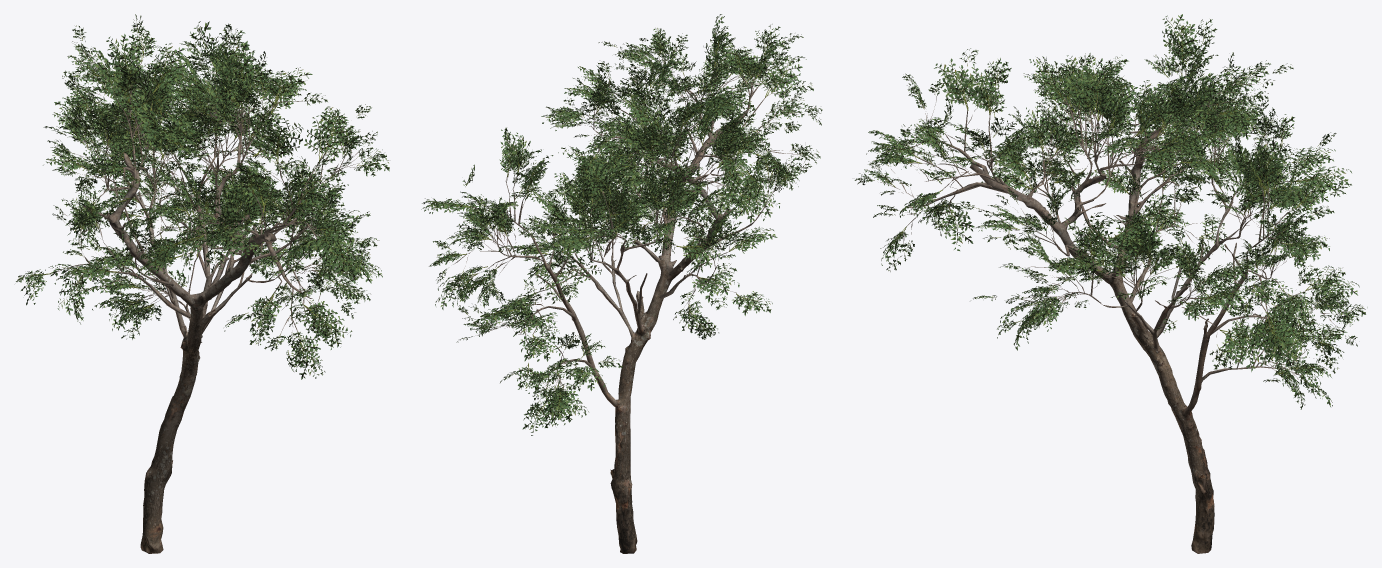
Rendered from tree-small-02-lod1.glb.
The picture shows the model from 3 angles, left to right: view 1: azimuth 30°, elevation 25°; view 2: azimuth 150°, elevation 25°; view 3: azimuth 270°, elevation 25°; orthographic projection. The views are drawn at different scales.
Visible parts, largest first — view 1: tree_small_02_LOD0; view 2: tree_small_02_LOD0; view 3: tree_small_02_LOD0.
Part boxes in pixels (left/top/right/bottom): tree_small_02_LOD0: left=16, top=14, right=389, bottom=553; tree_small_02_LOD0: left=421, top=14, right=822, bottom=553; tree_small_02_LOD0: left=854, top=14, right=1367, bottom=553.
Bounding box in the file's own units: 2.91 × 4.56 × 4.28.
3 materials, 3 textured.
